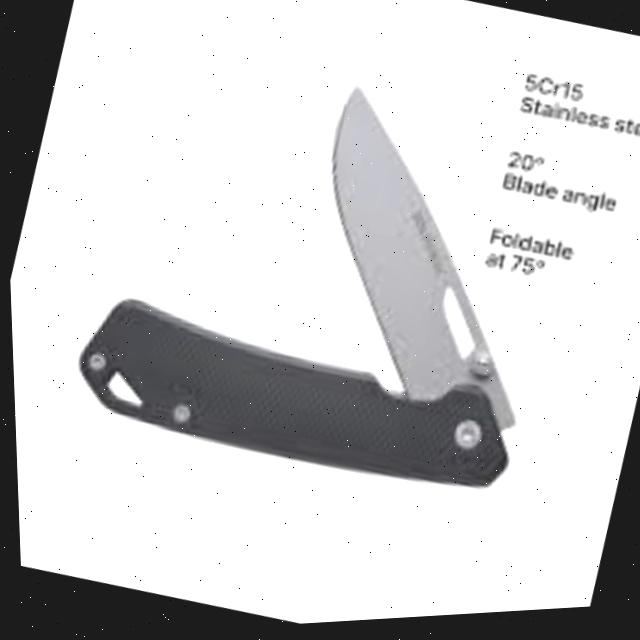Knife: (50, 20, 593, 527), (263, 71, 589, 448)
